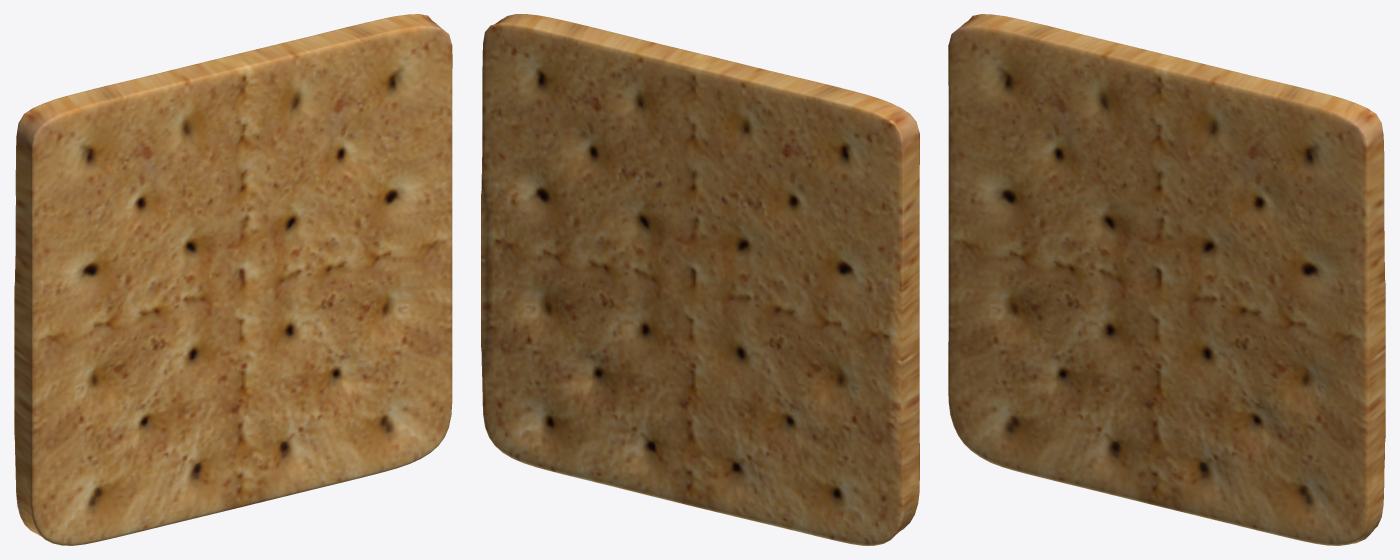
The model's file is cracker.glb.
3 renders of one model, left to right at view 1: azimuth 30°, elevation 25°; view 2: azimuth 150°, elevation 25°; view 3: azimuth 330°, elevation 25°, orthographic.
Visible parts, largest first — view 1: cube; view 2: cube; view 3: cube.
Part boxes in pixels (<box>): cube: <box>14,14,452,545</box>; cube: <box>481,14,919,545</box>; cube: <box>948,14,1385,545</box>.
Bounding box in the file's own units: 150 × 150 × 11.39.
1 material, 1 textured.
